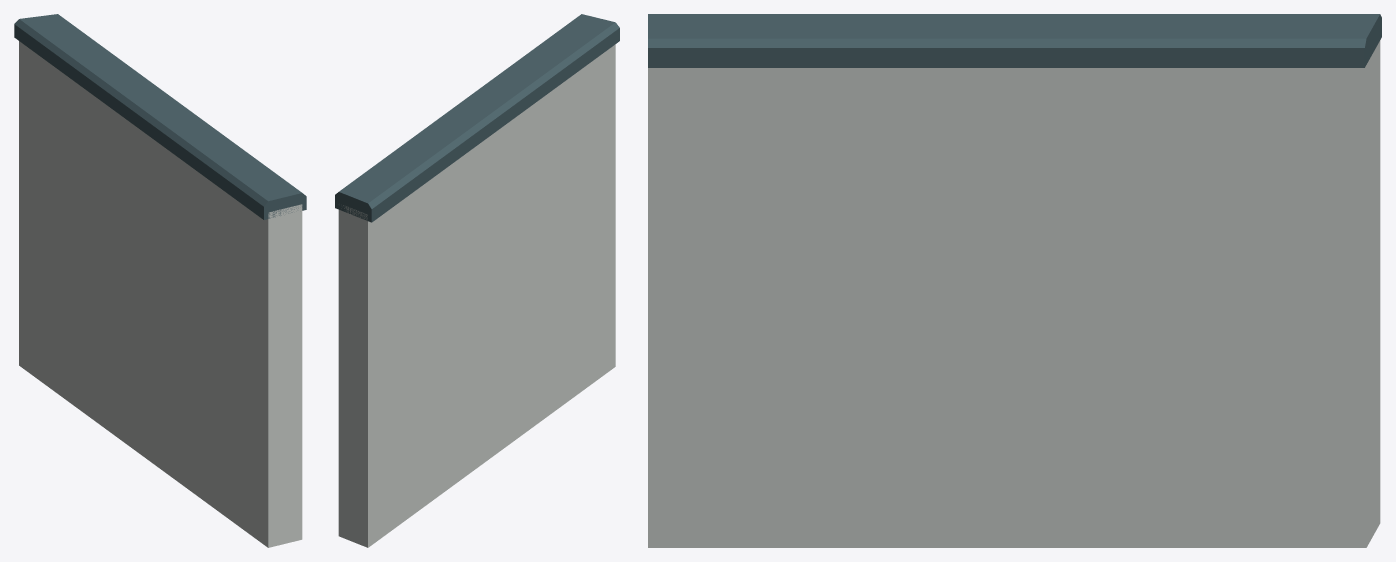
Rendered from halfwall_straight_100cm_miter_10000_0_10000_-2361.glb.
The picture shows the model from 3 angles, left to right: view 1: azimuth 30°, elevation 25°; view 2: azimuth 150°, elevation 25°; view 3: azimuth 270°, elevation 25°; orthographic projection. The views are drawn at different scales.
Visible parts, largest first — view 1: Seamless solid halfwall, Seamless top cap; view 2: Seamless solid halfwall, Seamless top cap; view 3: Seamless solid halfwall, Seamless top cap.
Boxes of the visible parts, left/top/right/bottom form: Seamless solid halfwall: left=19, top=41, right=302, bottom=547; Seamless top cap: left=14, top=14, right=306, bottom=219; Seamless solid halfwall: left=338, top=44, right=615, bottom=547; Seamless top cap: left=335, top=14, right=619, bottom=222; Seamless solid halfwall: left=648, top=40, right=1380, bottom=547; Seamless top cap: left=648, top=14, right=1381, bottom=67.
Size of the model in its own units: 0.1 by 0.775 by 1.01.
